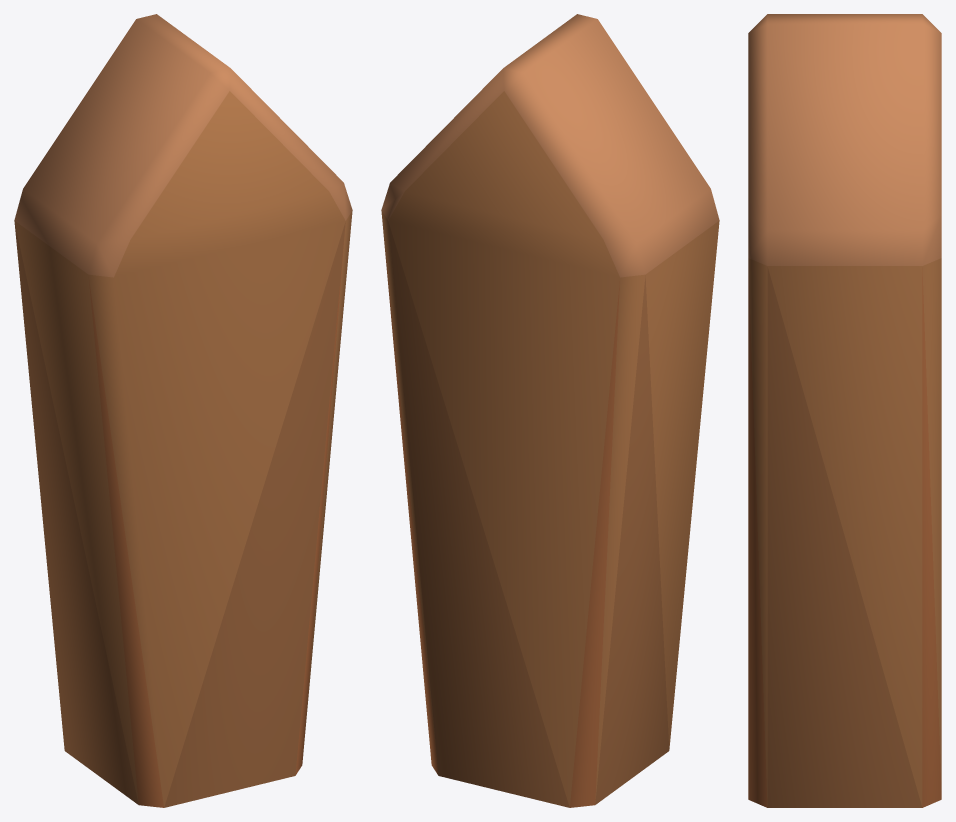
The model's file is itch_tiny_homely_house_fence_post.glb.
3 renders of one model, left to right at view 1: azimuth 30°, elevation 25°; view 2: azimuth 150°, elevation 25°; view 3: azimuth 270°, elevation 25°, orthographic. The views are drawn at different scales.
Visible parts, largest first — view 1: fence_post; view 2: fence_post; view 3: fence_post.
Part boxes in pixels (box(x1,y1,x2,y2)): fence_post: box(14, 14, 352, 807); fence_post: box(381, 14, 719, 807); fence_post: box(748, 14, 941, 807).
Size of the model in its own units: 0.8124 by 2.1 by 0.4933.
